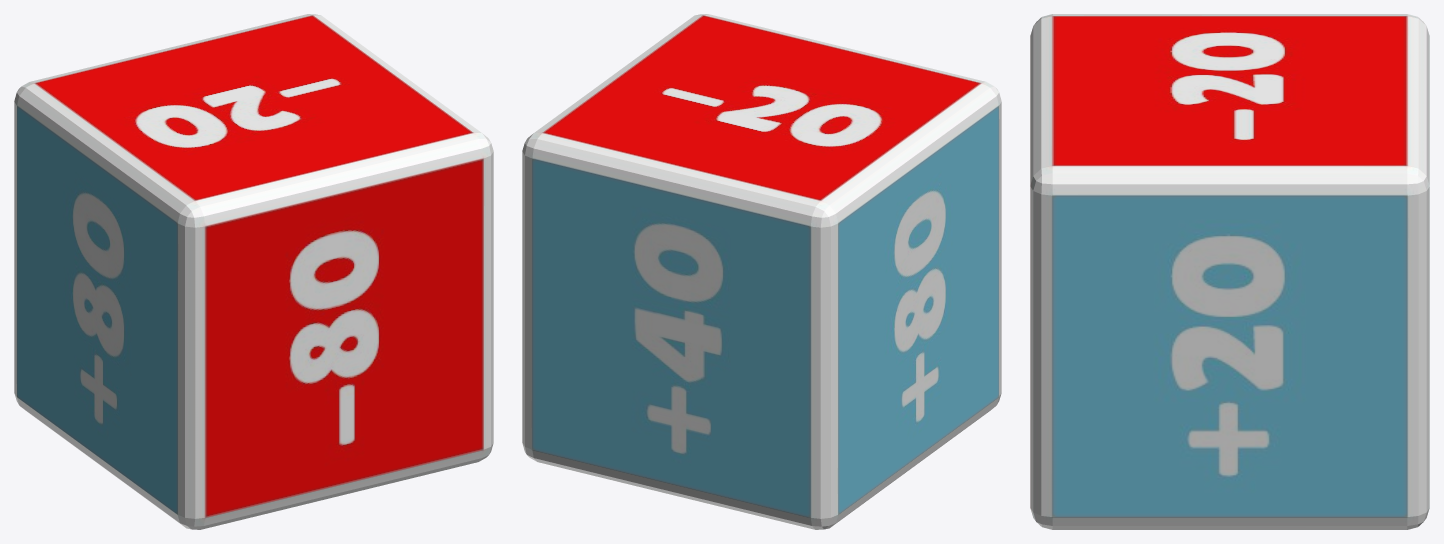
The model's file is Dice.fbx.
The picture shows the model from 3 angles, left to right: view 1: azimuth 30°, elevation 25°; view 2: azimuth 150°, elevation 25°; view 3: azimuth 270°, elevation 25°; orthographic projection. The views are drawn at different scales.
Parts seen in each view (by area): view 1: Cube; view 2: Cube; view 3: Cube.
Boxes of the visible parts, x1,y1,x2,y2 form: Cube: (14,14,493,529); Cube: (522,14,1001,529); Cube: (1030,14,1429,529).
Size of the model in its own units: 200 by 200 by 200.
